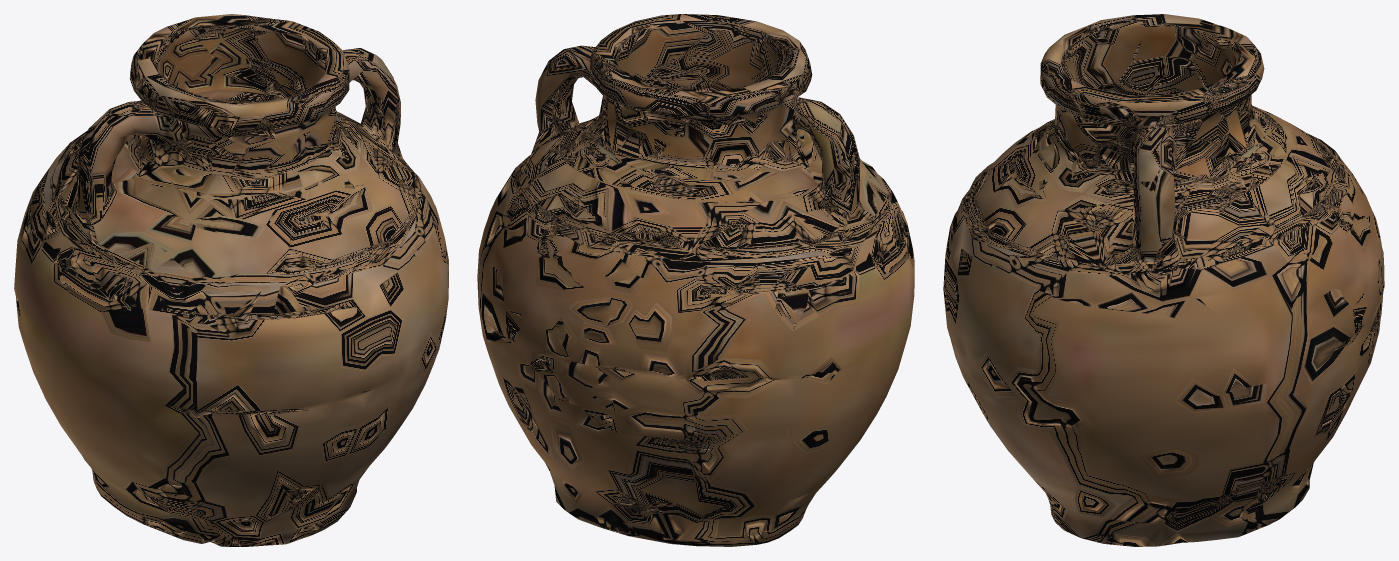
File: oil-jar-pixal3d.glb
The picture shows the model from 3 angles, left to right: view 1: azimuth 30°, elevation 25°; view 2: azimuth 150°, elevation 25°; view 3: azimuth 270°, elevation 25°; orthographic projection.
Visible parts, largest first — view 1: geometry_0; view 2: geometry_0; view 3: geometry_0.
Part boxes in pixels (left/top/right/bottom): geometry_0: left=14, top=14, right=448, bottom=546; geometry_0: left=477, top=14, right=914, bottom=546; geometry_0: left=943, top=14, right=1384, bottom=546.
Size of the model in its own units: 0.2456 by 0.2797 by 0.2468.
Materials: 1 (1 with a texture image).
